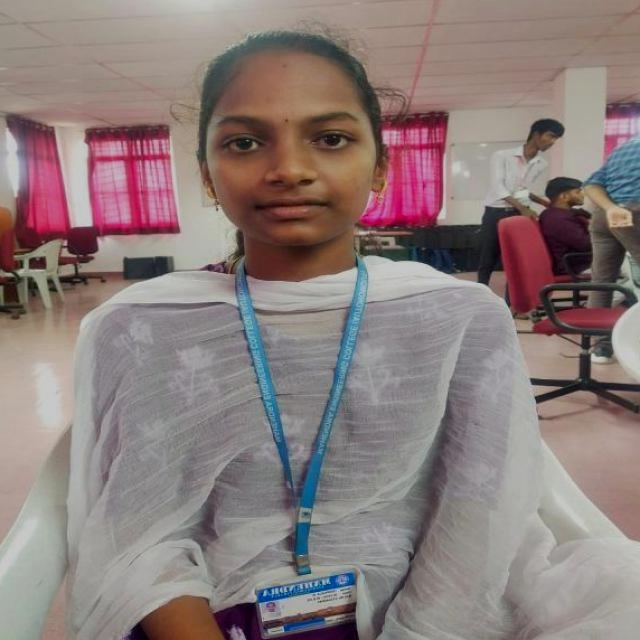ID_card: (235, 255, 369, 640)
